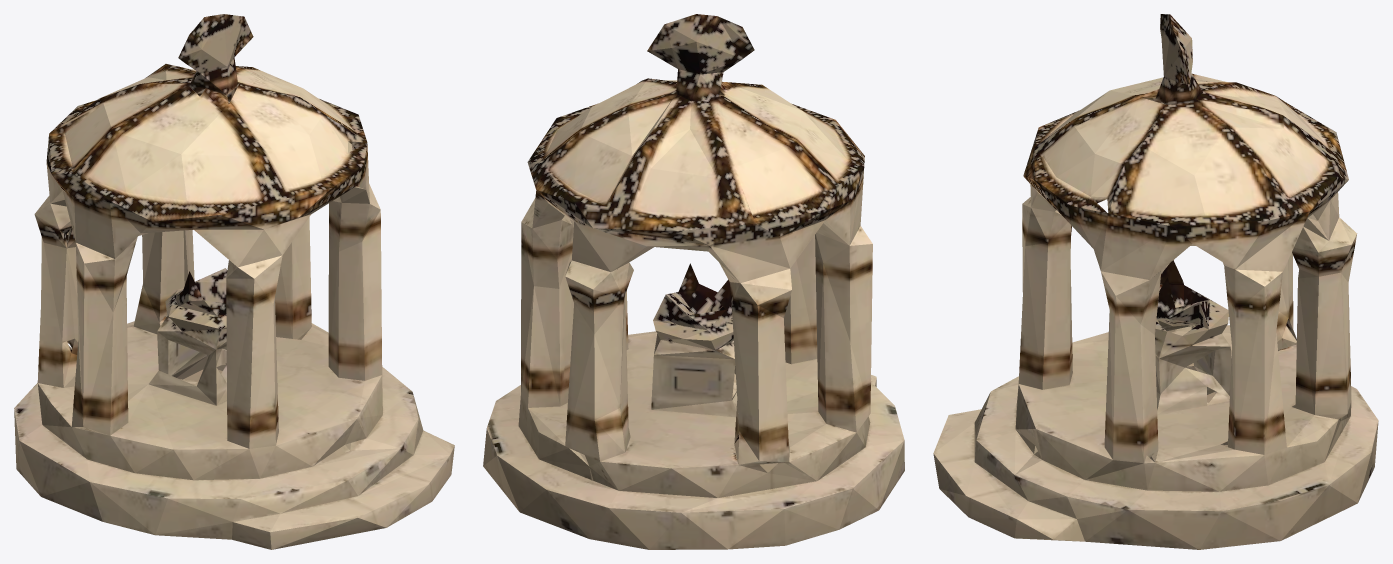
File: shrine-respawn.glb
3 renders of one model, left to right at view 1: azimuth 30°, elevation 25°; view 2: azimuth 150°, elevation 25°; view 3: azimuth 270°, elevation 25°, orthographic. The views are drawn at different scales.
Visible parts, largest first — view 1: shrine-respawn; view 2: shrine-respawn; view 3: shrine-respawn.
Boxes of the visible parts, box(x1,y1,x2,y2) form: shrine-respawn: box(14, 14, 454, 549); shrine-respawn: box(483, 14, 904, 549); shrine-respawn: box(933, 14, 1378, 549).
Bounding box in the file's own units: 2.91 × 3.47 × 3.16.
Materials: 1 (1 with a texture image).
